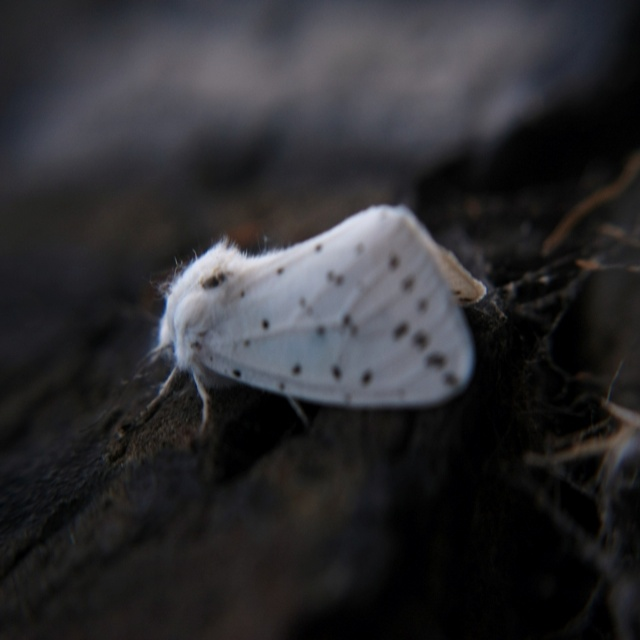Moths and butterflies: (76, 199, 491, 454)
